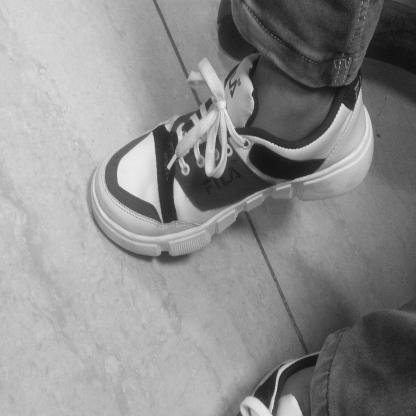ankle: (288, 114, 292, 119)
heel: (363, 129, 368, 137)
pinky: (126, 148, 128, 150)
right_foot: (83, 44, 375, 261)
toe: (138, 226, 143, 232)
